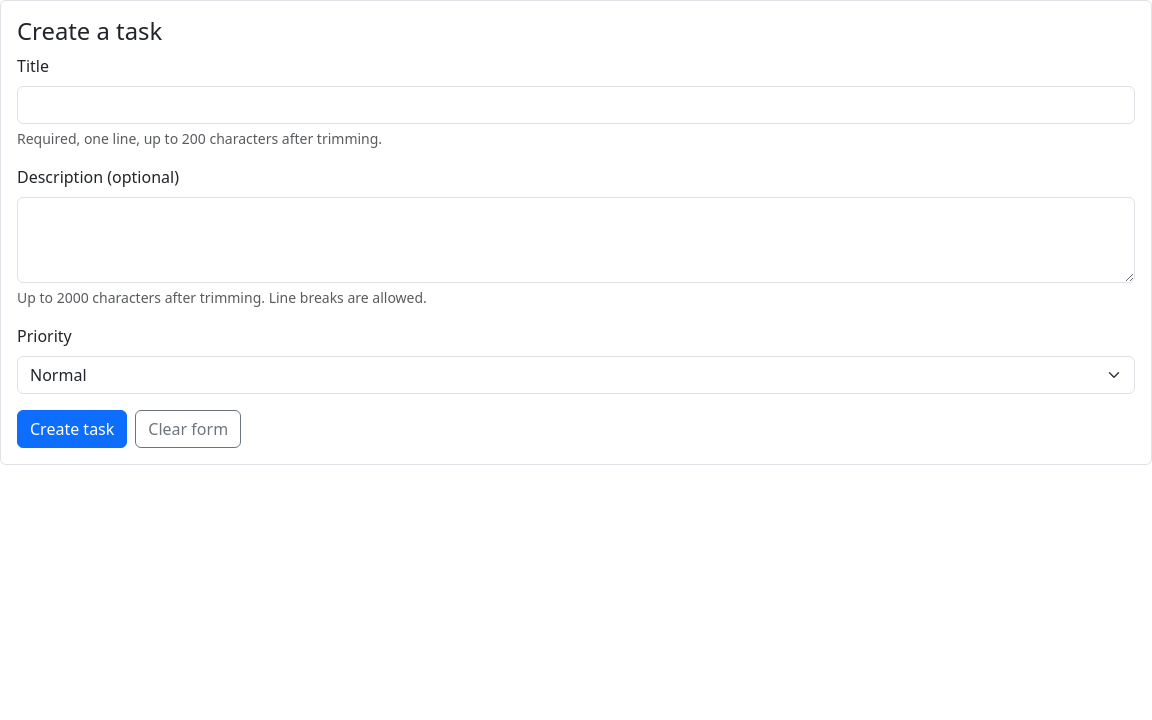
Test: TaskCreateFormComponent HTTP integration › shows CSRF failures separately without replaying the request
In the field with id "task-title": (576, 105) [17,86,1135,124], type " Learn Angular "
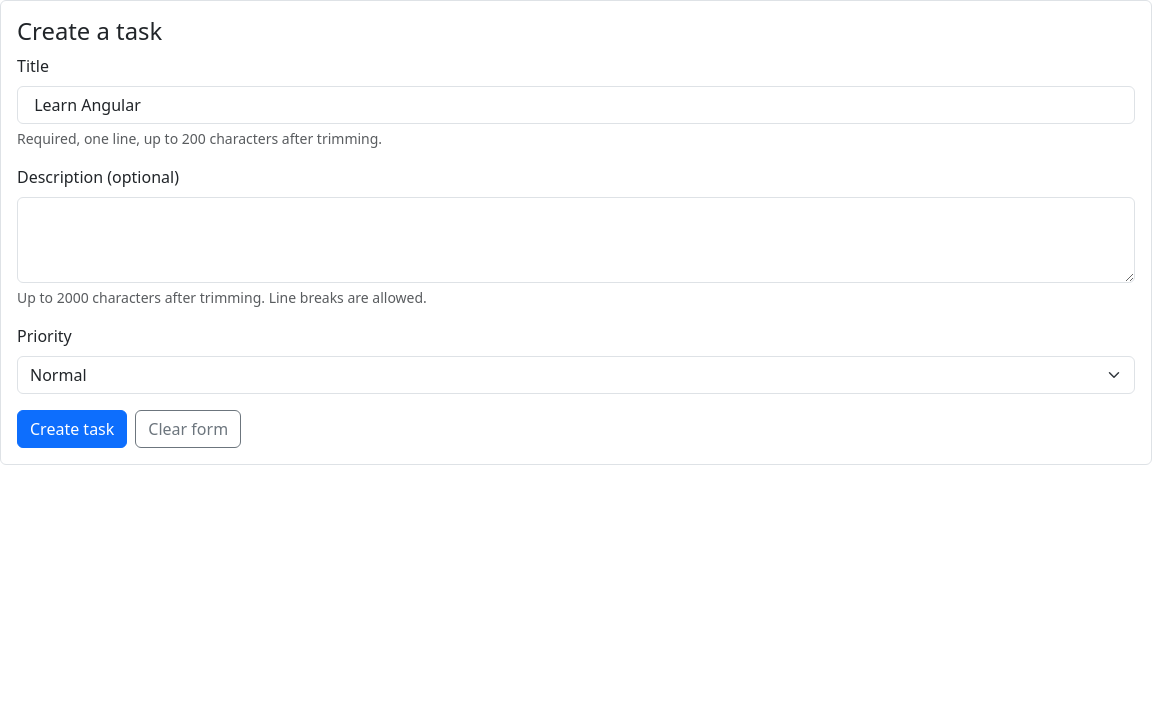
Submit the form, box [17,54,1135,448]
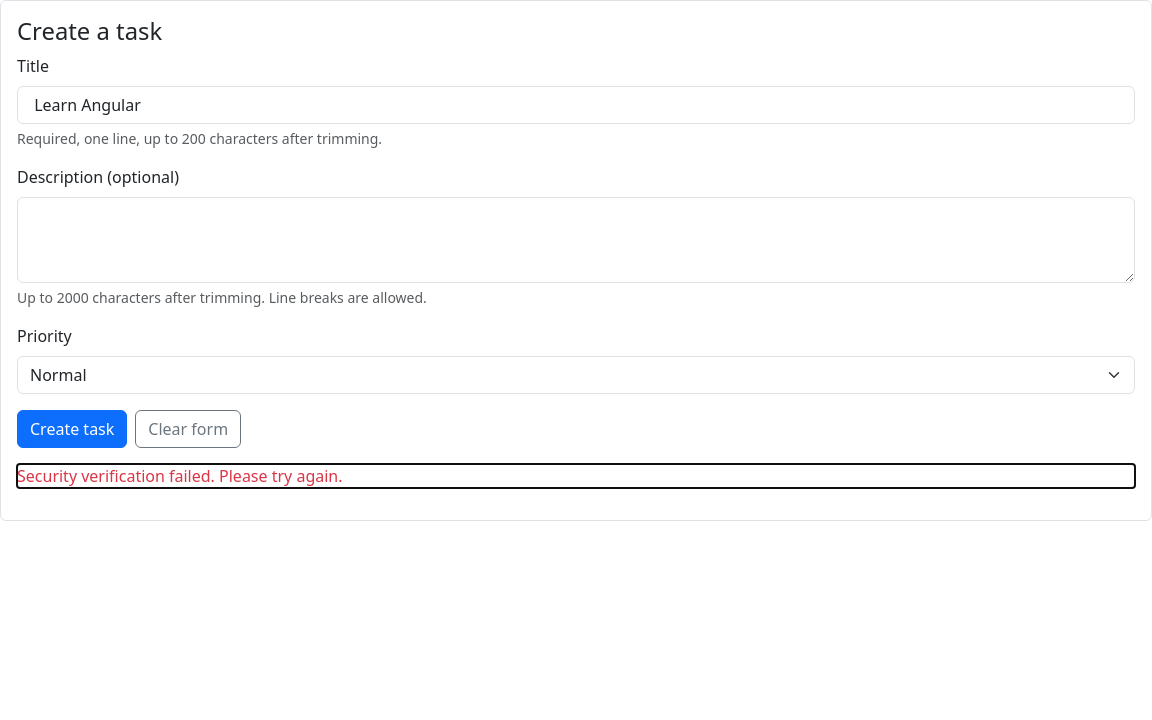
Check: the message "Security verification failed. Please try again." is shown, box [17,465,342,487]
